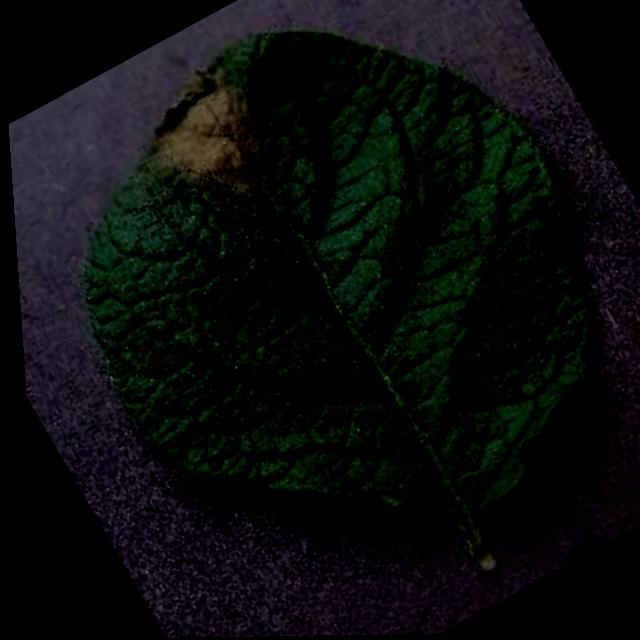Late_blight: (113, 39, 320, 244)
